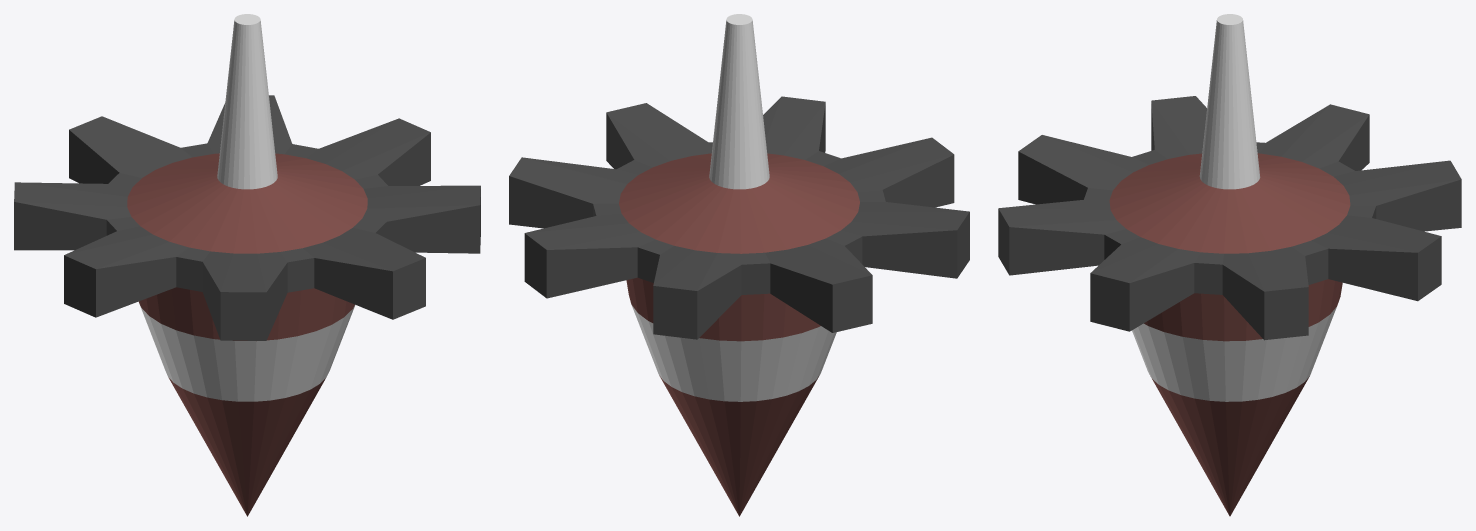
The model's file is spinningTop.fbx.
3 renders of one model, left to right at view 1: azimuth 30°, elevation 25°; view 2: azimuth 150°, elevation 25°; view 3: azimuth 270°, elevation 25°, orthographic.
Visible parts, largest first — view 1: Cone; view 2: Cone; view 3: Cone.
Part boxes in pixels (box(x1,y1,x2,y2)): Cone: box(14, 14, 480, 516); Cone: box(509, 14, 969, 516); Cone: box(998, 14, 1461, 516).
Bounding box in the file's own units: 560 × 663 × 560.
